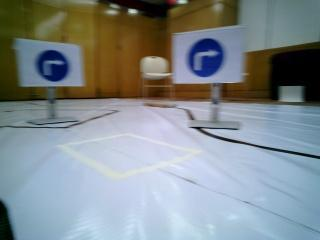right: (18, 45, 77, 83), (172, 37, 228, 76)
